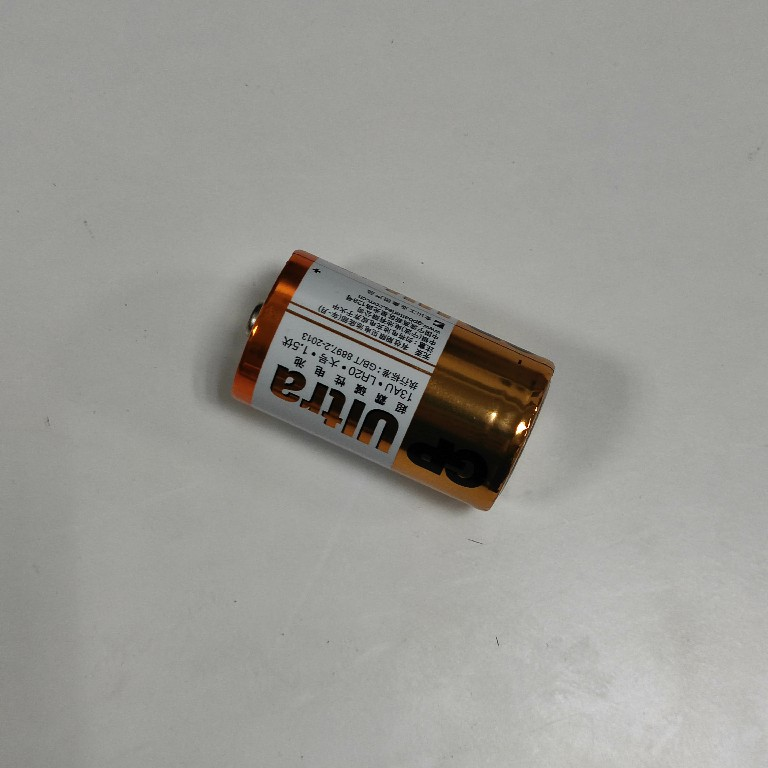charge: (219, 244, 563, 526)
